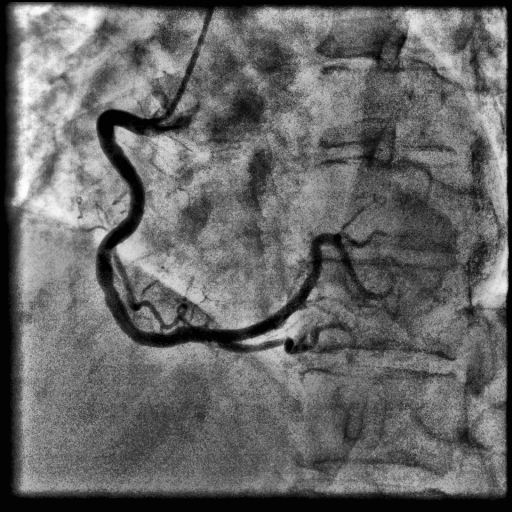pborca: (222, 233, 393, 341)
pda: (218, 337, 381, 354)
rca: (96, 109, 223, 348)
